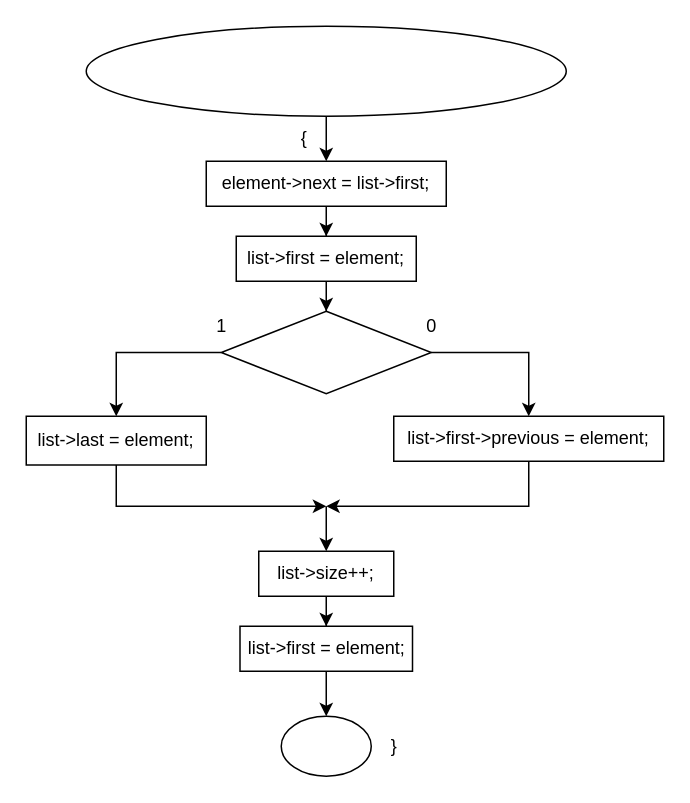
Image size: 690x803. Some labels were removed from this diagram. The shapes that lost their labels are listed below. From the top down, each one's box as (x1, y1, x2, y2) in pixels, then its label:
(85, 25, 566, 116): void bilist_add_before(BidirectionalList *list, BidirectionalElement *element)
(220, 310, 431, 394): if (list->size == 0)
(280, 715, 371, 776): return;
